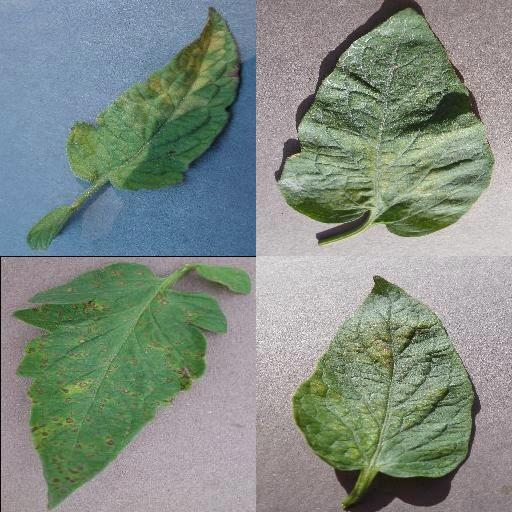Leaf Mold: (69, 5, 241, 191)
Septoria: (12, 261, 227, 509)
Spider Mites: (278, 7, 494, 237), (293, 275, 475, 477)
